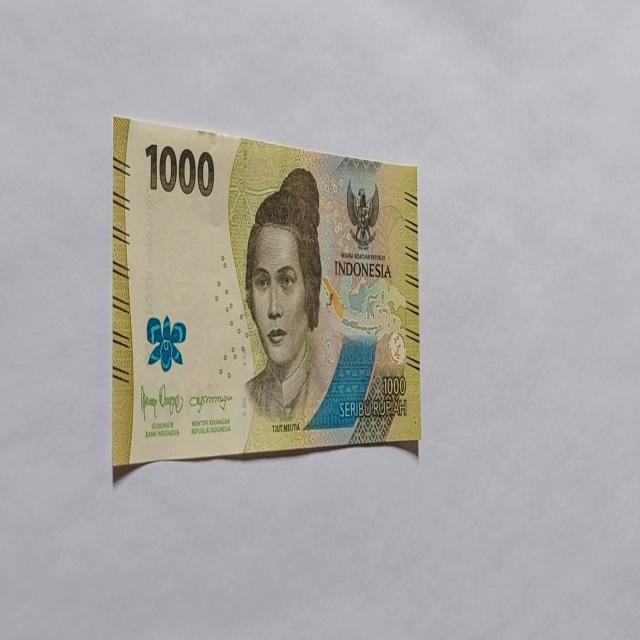seribu rupiah kertas: (112, 113, 420, 470)
